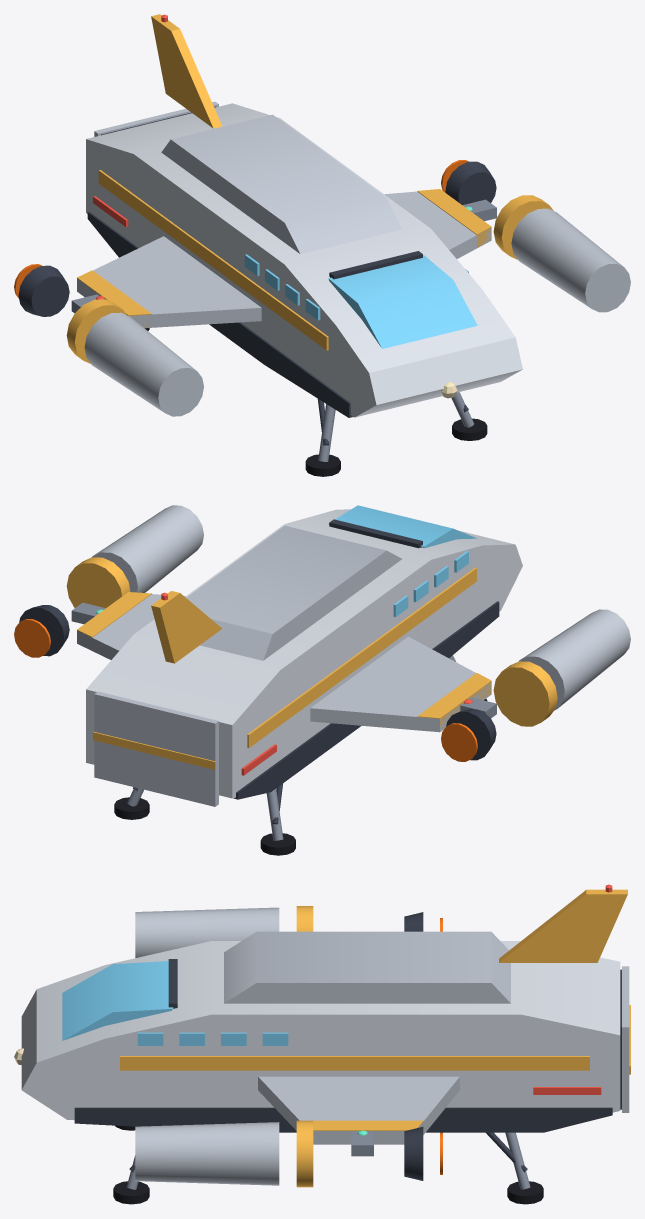
Rendered from lieferschiff.obj.
The picture shows the model from 3 angles, top to bottom: view 1: azimuth 30°, elevation 25°; view 2: azimuth 150°, elevation 25°; view 3: azimuth 270°, elevation 25°; orthographic projection. The views are drawn at different scales.
Parts seen in each view (by area): view 1: lieferschiff_Koerper, lieferschiff_Duesen, lieferschiff_Fahrwerk; view 2: lieferschiff_Koerper, lieferschiff_Duesen, lieferschiff_Rampe, lieferschiff_Fahrwerk; view 3: lieferschiff_Koerper, lieferschiff_Duesen, lieferschiff_Fahrwerk, lieferschiff_Rampe.
Part boxes in pixels (x1,y1,x2,y2): lieferschiff_Koerper: (77, 14, 522, 417); lieferschiff_Duesen: (14, 160, 630, 416); lieferschiff_Fahrwerk: (145, 328, 487, 476); lieferschiff_Koerper: (77, 505, 522, 799); lieferschiff_Duesen: (14, 505, 630, 761); lieferschiff_Rampe: (93, 691, 218, 806); lieferschiff_Fahrwerk: (114, 655, 487, 855); lieferschiff_Koerper: (14, 884, 627, 1144); lieferschiff_Duesen: (135, 906, 442, 1187); lieferschiff_Fahrwerk: (113, 1125, 543, 1204); lieferschiff_Rampe: (622, 966, 630, 1112).
Size of the model in its own units: 7.58 by 4.01 by 8.14.
